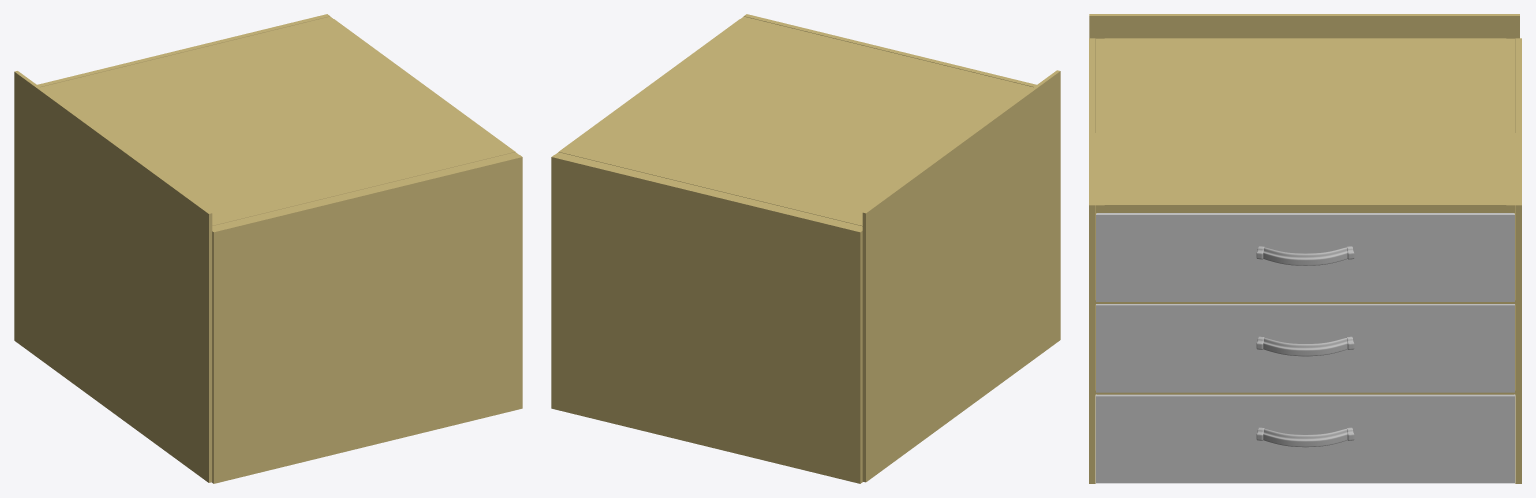
Rendered from Dresser_Cabinet.fbx.
3 views of the same model, side by side, from view 1: azimuth 30°, elevation 25°; view 2: azimuth 150°, elevation 25°; view 3: azimuth 270°, elevation 25° (orthographic). The views are drawn at different scales.
Parts seen in each view (by area): view 1: Cube.001, Cube.006, Cube.004, Cube.003; view 2: Cube.001, Cube.006, Cube.004, Cube.003; view 3: Cube.004, Cube.027, Cube.002, Cube.026, Cube.006, Cube.001, Cube.003, Cube.023, Cube.022, Cube.028, Cube.019, Cube.025.
Boxes of the visible parts, box(x1,y1,x2,y2) form: Cube.001: box(37, 14, 522, 483); Cube.006: box(14, 71, 212, 482); Cube.004: box(44, 19, 515, 225); Cube.003: box(41, 16, 518, 229); Cube.001: box(551, 14, 1036, 483); Cube.006: box(862, 70, 1060, 482); Cube.004: box(559, 19, 1029, 226); Cube.003: box(555, 16, 1033, 229); Cube.004: box(1104, 38, 1506, 212); Cube.027: box(1096, 394, 1514, 483); Cube.002: box(1096, 213, 1514, 301); Cube.026: box(1096, 304, 1514, 392); Cube.006: box(1089, 14, 1519, 132); Cube.001: box(1089, 38, 1521, 483); Cube.003: box(1096, 38, 1514, 212); Cube.023: box(1095, 304, 1515, 394); Cube.022: box(1095, 133, 1515, 303); Cube.028: box(1263, 428, 1347, 447); Cube.019: box(1263, 247, 1347, 265); Cube.025: box(1263, 337, 1347, 356).
Size of the model in its own units: 400 by 311 by 406.
